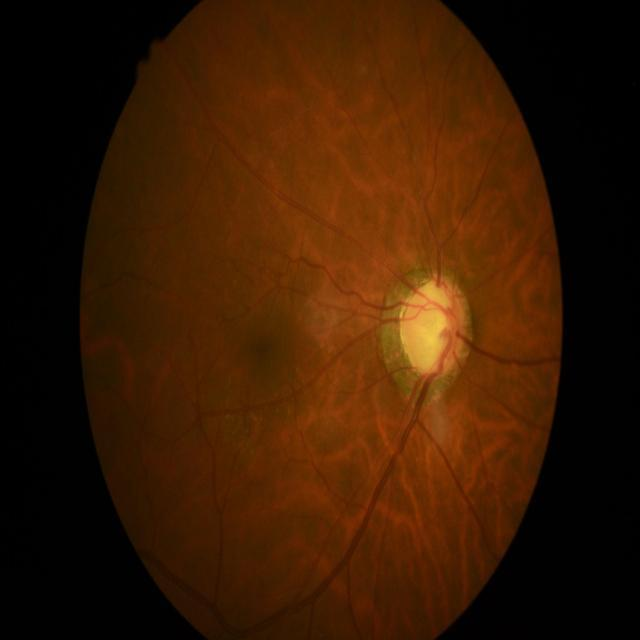cup: (407, 284, 458, 372)
disk: (400, 274, 466, 378)
